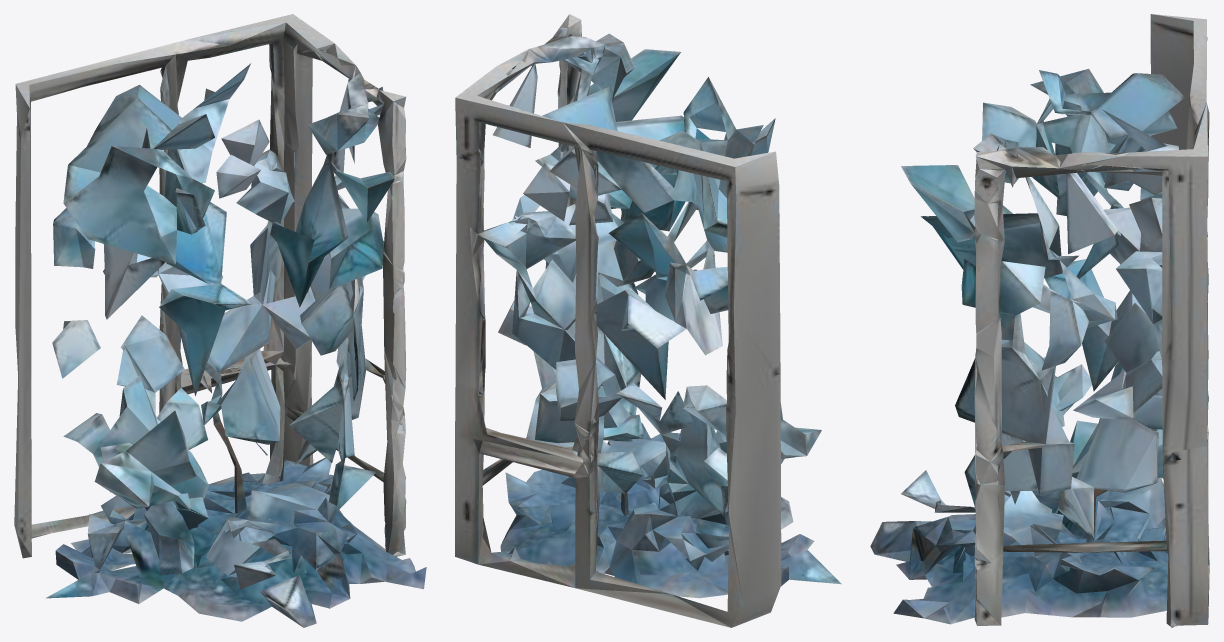
The model's file is debris_glass_shards.glb.
3 renders of one model, left to right at view 1: azimuth 30°, elevation 25°; view 2: azimuth 150°, elevation 25°; view 3: azimuth 270°, elevation 25°, orthographic. The views are drawn at different scales.
Visible parts, largest first — view 1: debris_glass_shards; view 2: debris_glass_shards; view 3: debris_glass_shards.
Boxes of the visible parts, bbox=[...] form: debris_glass_shards: bbox=[14, 14, 426, 627]; debris_glass_shards: bbox=[455, 14, 841, 627]; debris_glass_shards: bbox=[870, 14, 1209, 627].
Bounding box in the file's own units: 2.5 × 3.4 × 2.21.
Materials: 1 (1 with a texture image).
